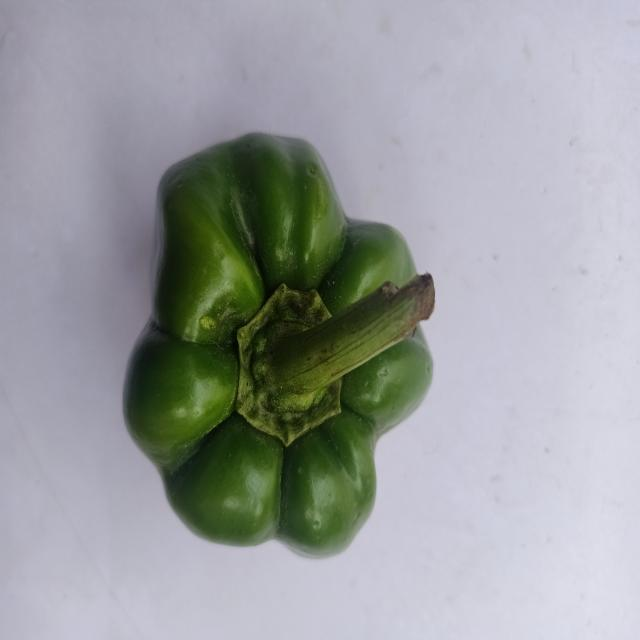Capsicum: (116, 126, 447, 570)
